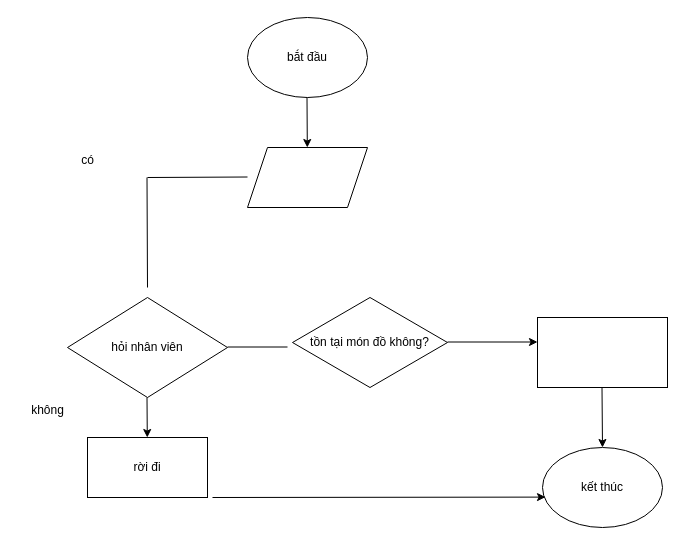
This 685x545 diagram has some shape labels left out. Here are the shapes that lost their labels. From the top down, the box of each, then its label:
(246, 146, 368, 208): tìm kiếm món đồ
(536, 316, 668, 388): tồn tại
